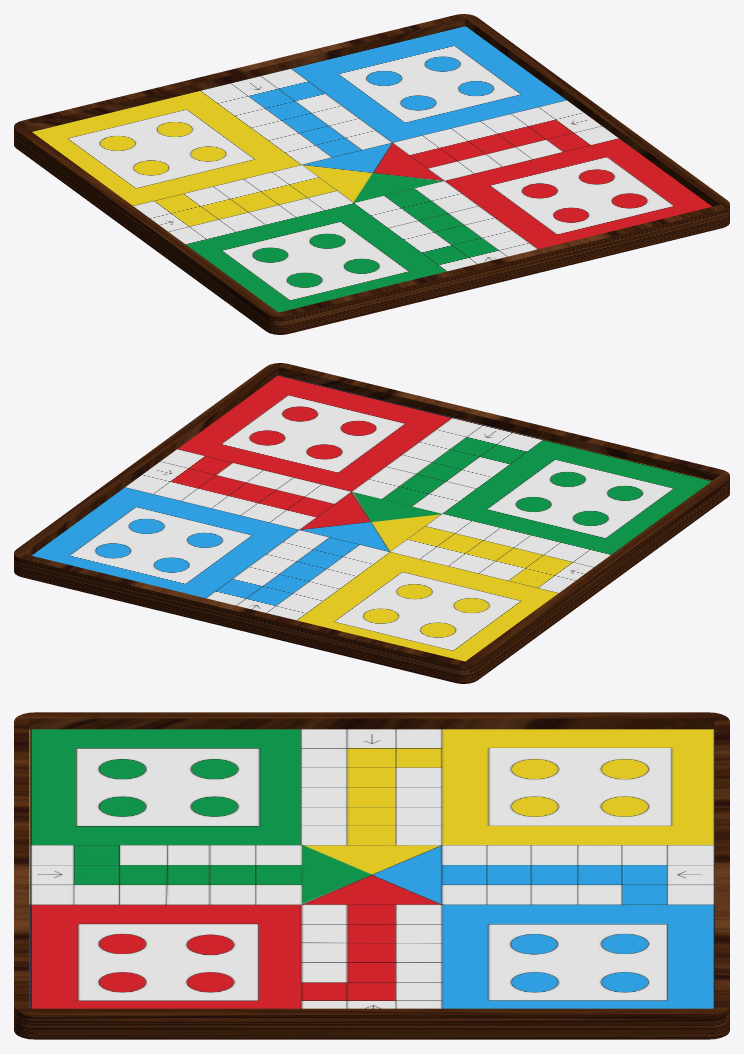
The model's file is LudoBoardJulTest.fbx.
3 views of the same model, one above another, from view 1: azimuth 30°, elevation 25°; view 2: azimuth 150°, elevation 25°; view 3: azimuth 270°, elevation 25° (orthographic). The views are drawn at different scales.
Parts seen in each view (by area): view 1: Cube; view 2: Cube; view 3: Cube.
Boxes of the visible parts, x1,y1,x2,y2 form: Cube: [14, 14, 729, 334]; Cube: [14, 363, 729, 683]; Cube: [14, 712, 729, 1039].
Bounding box in the file's own units: 200 × 7.6 × 200.
2 materials, 2 textured.
